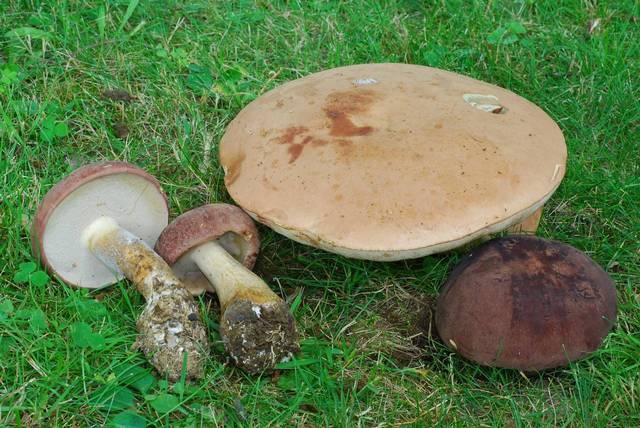Non-edible Mushroom: (208, 46, 575, 271), (433, 232, 617, 374), (153, 201, 300, 376), (81, 215, 209, 382), (29, 160, 169, 291)
